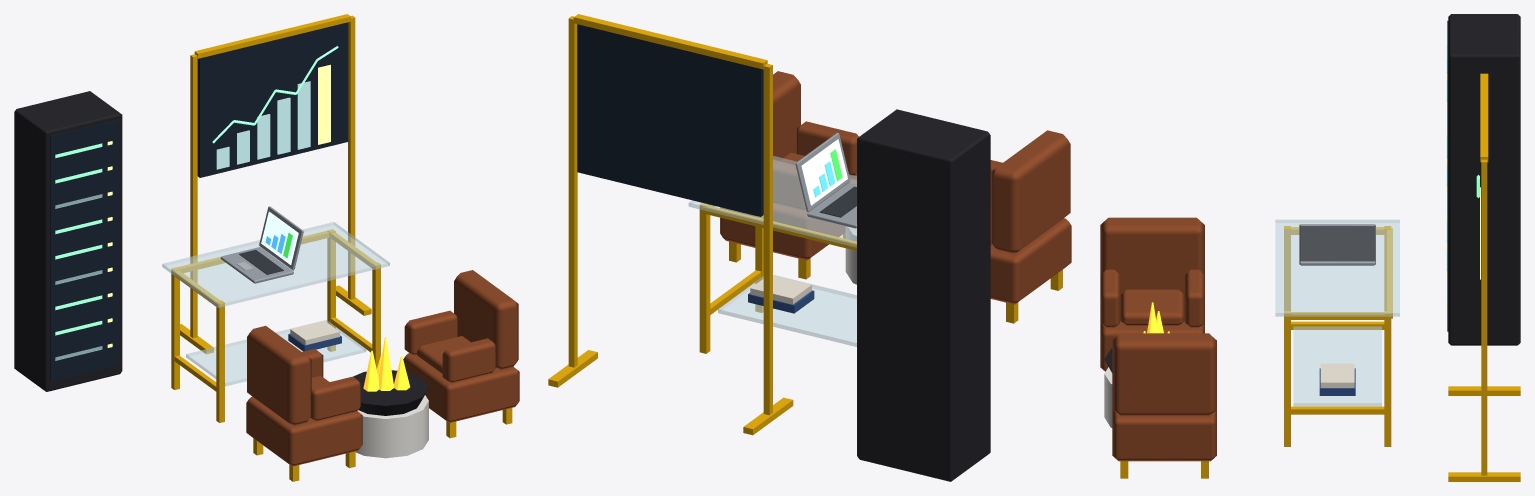
The model's file is station_buffer_3.glb.
The picture shows the model from 3 angles, left to right: view 1: azimuth 30°, elevation 25°; view 2: azimuth 150°, elevation 25°; view 3: azimuth 270°, elevation 25°; orthographic projection. The views are drawn at different scales.
Parts seen in each view (by area): view 1: station_buffer_3; view 2: station_buffer_3; view 3: station_buffer_3.
Boxes of the visible parts, x1,y1,x2,y2 form: station_buffer_3: [14, 14, 519, 481]; station_buffer_3: [548, 14, 1071, 481]; station_buffer_3: [1100, 14, 1520, 481].
Bounding box in the file's own units: 2.09 × 1.76 × 2.09.
